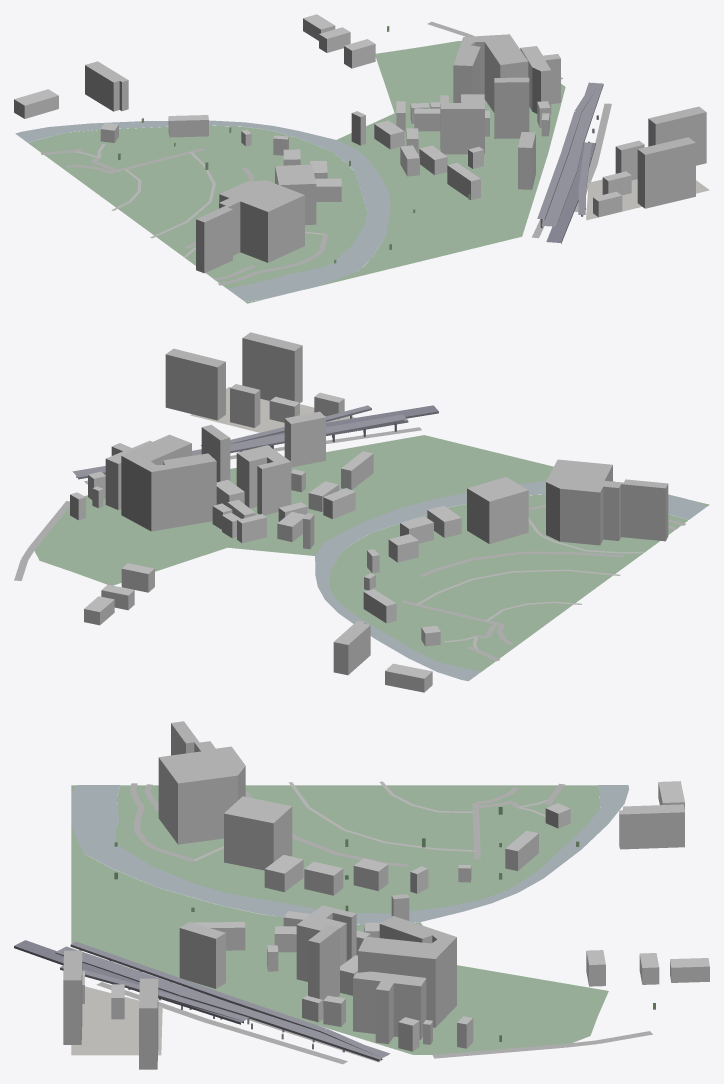
3 views of the same model, one above another, from view 1: azimuth 30°, elevation 25°; view 2: azimuth 150°, elevation 25°; view 3: azimuth 270°, elevation 25° (orthographic). The views are drawn at different scales.
Size of the model in its own units: 534 by 59.19 by 543.
